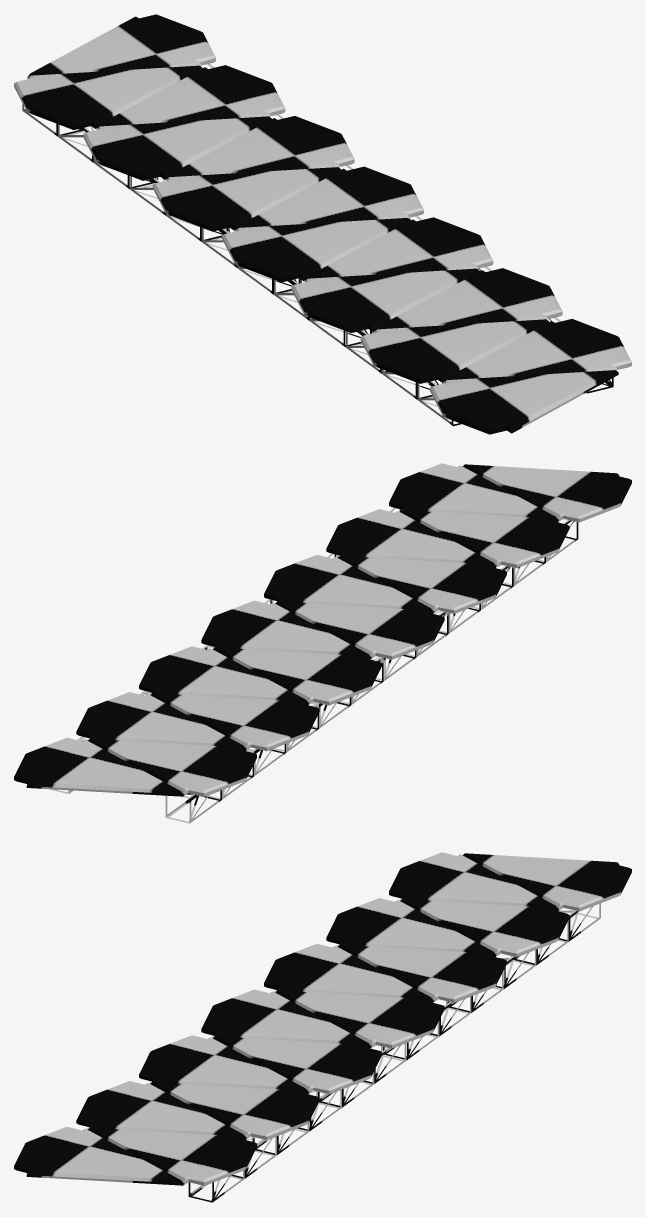
The model's file is solarsegel.obj.
3 views of the same model, one above another, from view 1: azimuth 30°, elevation 25°; view 2: azimuth 150°, elevation 25°; view 3: azimuth 330°, elevation 25° (orthographic). The views are drawn at different scales.
Parts seen in each view (by area): view 1: main; view 2: main; view 3: main.
Part boxes in pixels (x1,y1,x2,y2): main: (14, 14, 631, 434); main: (14, 463, 631, 823); main: (14, 852, 631, 1202).
Bounding box in the file's own units: 69.79 × 11.24 × 298.
1 material, 1 textured.
